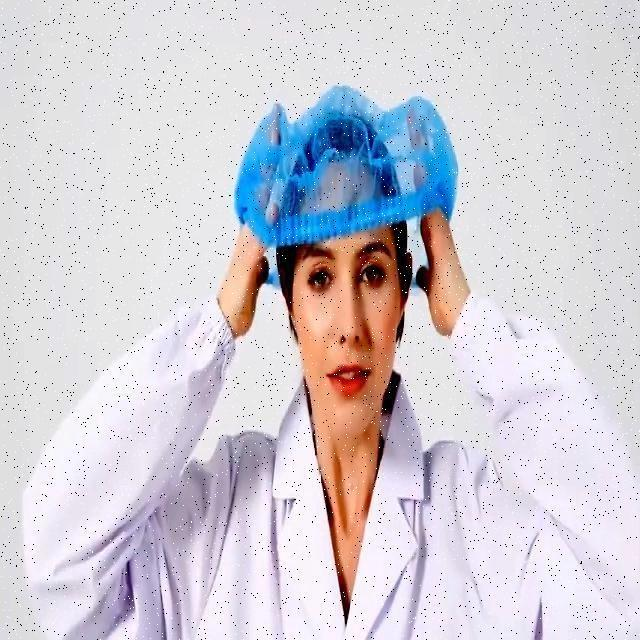gloves: (254, 98, 448, 206)
no_hairnet: (300, 324, 379, 408)
